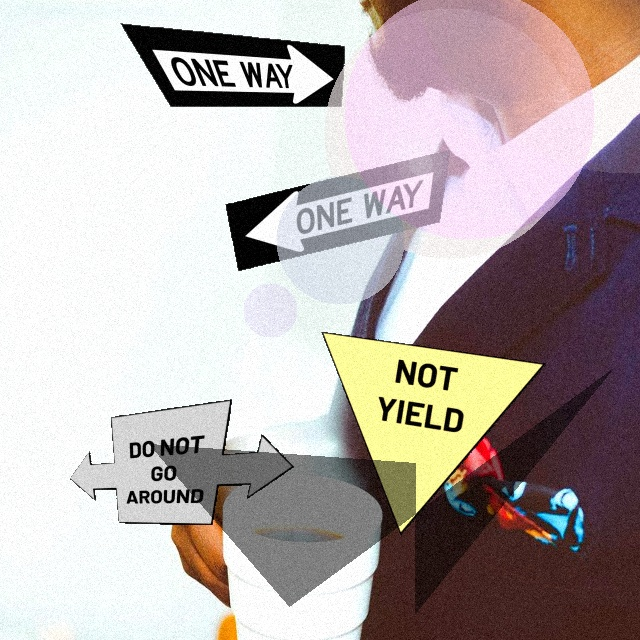DO_NOT_GO_AROUND: (69, 399, 294, 525)
NOT_YIELD: (321, 331, 545, 535)
ONE_WAY_ left: (225, 149, 450, 271)
ONE_WAY_ right: (120, 23, 345, 107)
